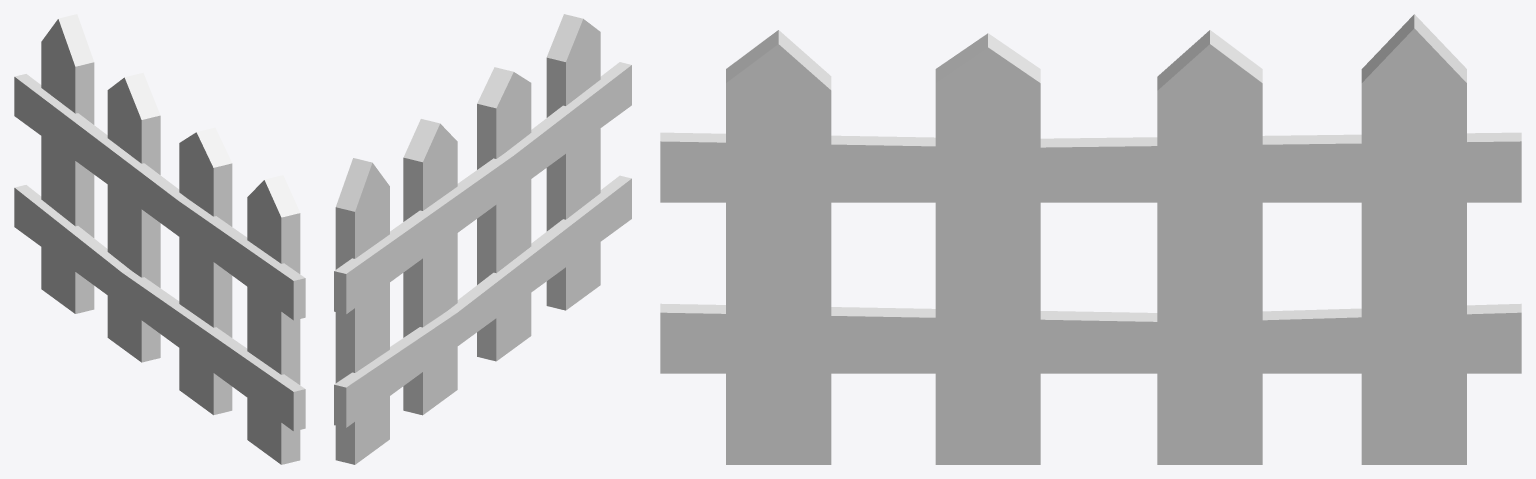
Rendered from Fence.fbx.
3 renders of one model, left to right at view 1: azimuth 30°, elevation 25°; view 2: azimuth 150°, elevation 25°; view 3: azimuth 270°, elevation 25°, orthographic. The views are drawn at different scales.
Parts seen in each view (by area): view 1: Cube.032; view 2: Cube.032; view 3: Cube.032.
Boxes of the visible parts, <box> form: Cube.032: <box>14,14,305,464</box>; Cube.032: <box>334,14,631,464</box>; Cube.032: <box>660,14,1521,464</box>.
Size of the model in its own units: 21.15 by 205 by 366.
1 material, 1 textured.
